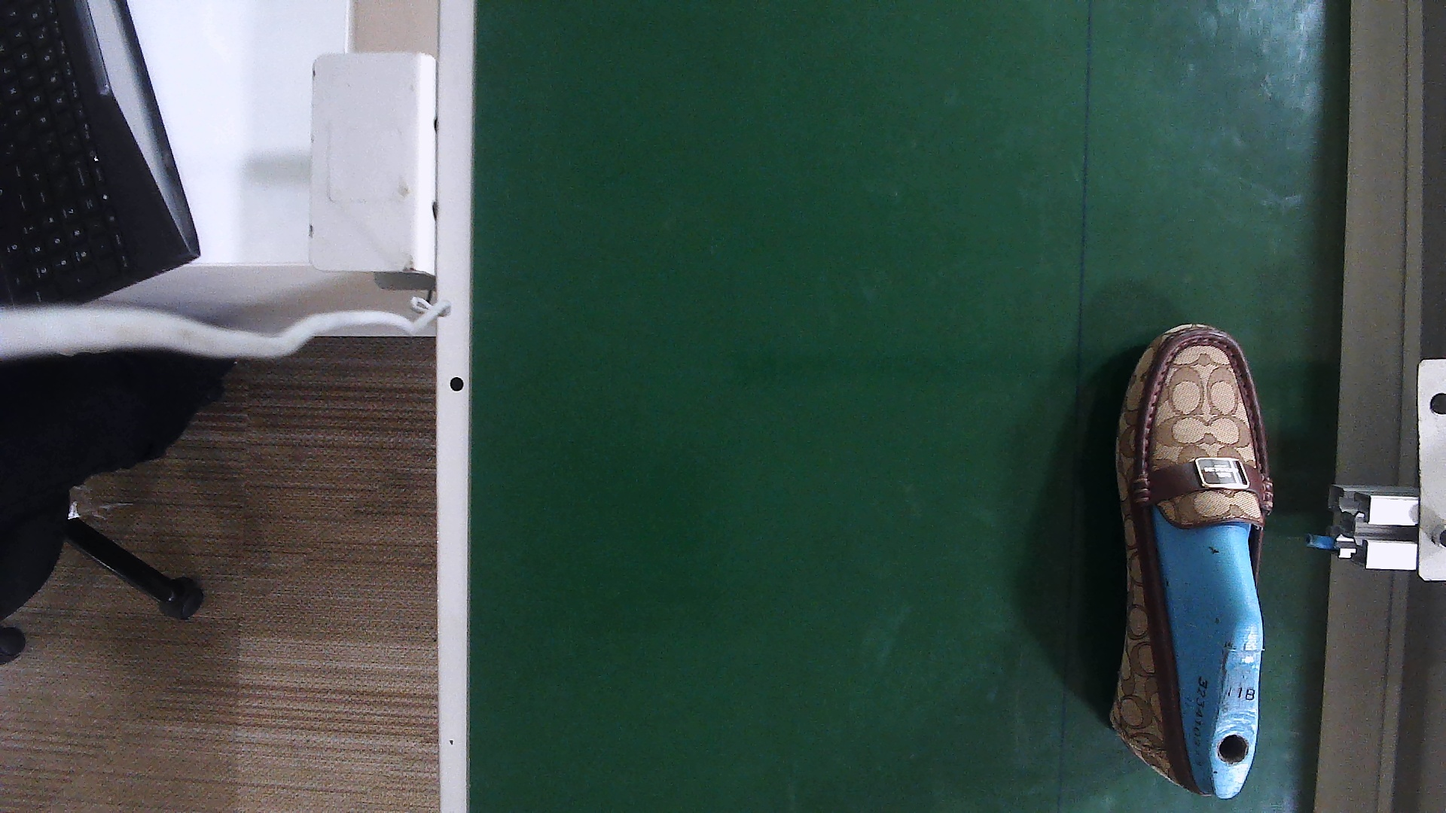shoe: (1115, 326, 1269, 798)
